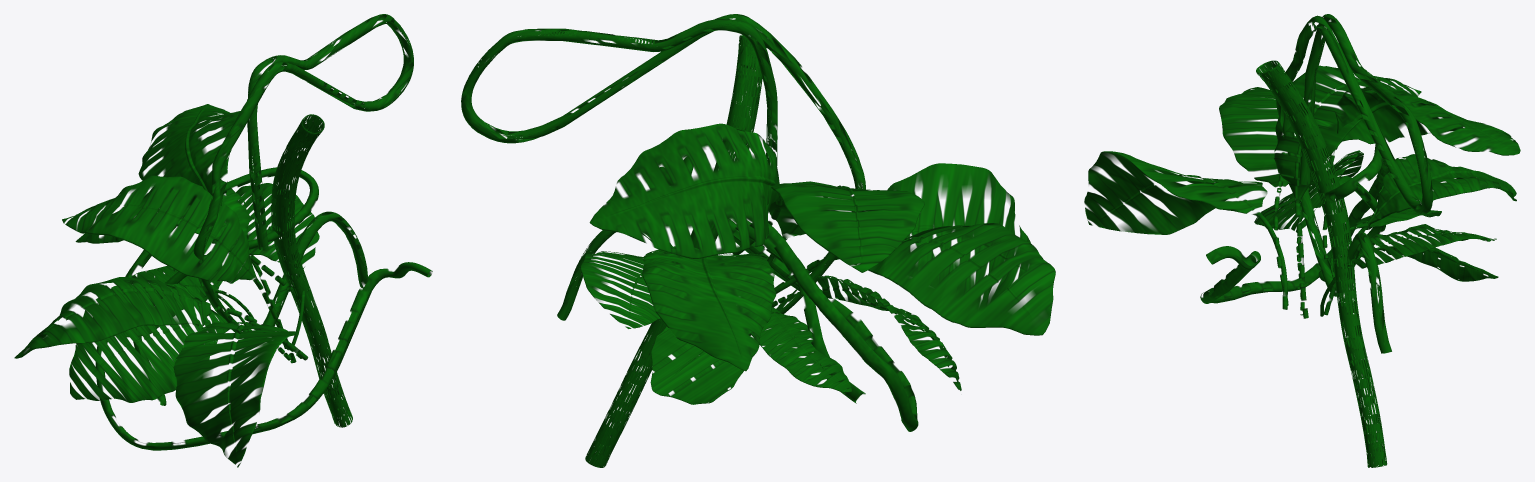
File: dmredwoodplant1.glb
3 views of the same model, side by side, from view 1: azimuth 30°, elevation 25°; view 2: azimuth 150°, elevation 25°; view 3: azimuth 270°, elevation 25° (orthographic). The views are drawn at different scales.
Parts seen in each view (by area): view 1: leaf_004_mesh.004, jump_rope_246.022, leaf_003_mesh.004, leaf_001_mesh.004, leaf_005_mesh.004, human_liver_1128_aorta.004, jump_rope_246.019, leaf_010_mesh.004, leaf_002_mesh.004, leaf_009_mesh.004, leaf_007_mesh.003; view 2: leaf_010_mesh.004, leaf_005_mesh.004, jump_rope_246.022, leaf_009_mesh.004, leaf_004_mesh.004, leaf_003_mesh.004, jump_rope_246.019, human_liver_1128_aorta.004, leaf_006_mesh.004, leaf_007_mesh.003, leaf_002_mesh.004, leaf_001_mesh.004; view 3: jump_rope_246.022, leaf_003_mesh.004, human_liver_1128_aorta.004, leaf_010_mesh.004, jump_rope_246.019, leaf_004_mesh.004, leaf_005_mesh.004, leaf_009_mesh.004, leaf_002_mesh.004, leaf_001_mesh.004, leaf_006_mesh.004, leaf_007_mesh.003.
Boxes of the visible parts, box(x1,y1,x2,y2) form: leaf_004_mesh.004: box(62, 175, 296, 362); jump_rope_246.022: box(193, 14, 413, 338); leaf_003_mesh.004: box(173, 322, 308, 467); leaf_001_mesh.004: box(69, 279, 294, 402); leaf_005_mesh.004: box(14, 277, 302, 358); human_liver_1128_aorta.004: box(271, 114, 352, 427); jump_rope_246.019: box(95, 167, 432, 450); leaf_010_mesh.004: box(138, 104, 292, 291); leaf_002_mesh.004: box(212, 183, 319, 345); leaf_009_mesh.004: box(75, 179, 286, 348); leaf_007_mesh.003: box(93, 265, 253, 337); leaf_010_mesh.004: box(589, 123, 782, 258); leaf_005_mesh.004: box(774, 223, 1055, 335); jump_rope_246.022: box(461, 14, 865, 335); leaf_009_mesh.004: box(642, 246, 776, 371); leaf_004_mesh.004: box(767, 181, 924, 272); leaf_003_mesh.004: box(775, 163, 1030, 309); jump_rope_246.019: box(659, 156, 918, 431); human_liver_1128_aorta.004: box(585, 35, 766, 467); leaf_006_mesh.004: box(650, 326, 743, 404); leaf_007_mesh.003: box(744, 306, 851, 392); leaf_002_mesh.004: box(580, 251, 684, 328); leaf_001_mesh.004: box(772, 275, 961, 390); jump_rope_246.022: box(1275, 14, 1432, 353); leaf_003_mesh.004: box(1084, 151, 1287, 309); human_liver_1128_aorta.004: box(1256, 60, 1387, 467); leaf_010_mesh.004: box(1322, 86, 1520, 259); jump_rope_246.019: box(1200, 143, 1389, 303); leaf_004_mesh.004: box(1273, 65, 1421, 318); leaf_005_mesh.004: box(1219, 87, 1341, 305); leaf_009_mesh.004: box(1324, 154, 1516, 315); leaf_002_mesh.004: box(1320, 224, 1496, 316); leaf_001_mesh.004: box(1254, 150, 1363, 315); leaf_006_mesh.004: box(1344, 244, 1498, 302); leaf_007_mesh.003: box(1330, 208, 1441, 278).
Size of the model in its own units: 0.9038 by 0.7625 by 0.7458.
1 material, 1 textured.
